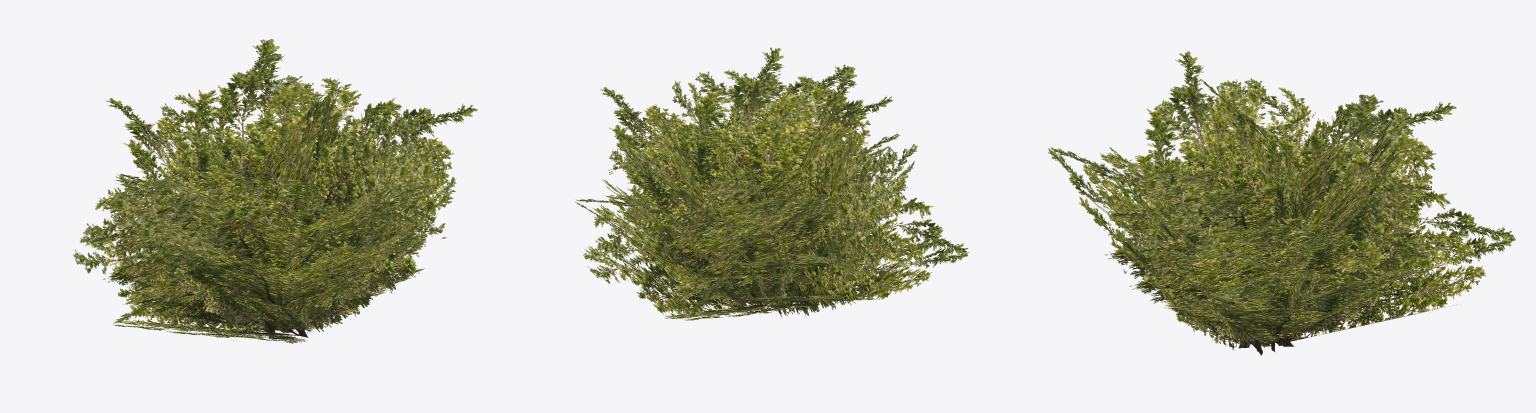
The model's file is africaBush_01.DAE.
3 renders of one model, left to right at view 1: azimuth 30°, elevation 25°; view 2: azimuth 150°, elevation 25°; view 3: azimuth 270°, elevation 25°, orthographic. The views are drawn at different scales.
Parts seen in each view (by area): view 1: africaBushOne256, africaBushOne128; view 2: africaBushOne256, africaBushOne128; view 3: africaBushOne256, africaBushOne128.
Part boxes in pixels (<box>): africaBushOne256: <box>82,39,477,338</box>; africaBushOne128: <box>72,39,457,343</box>; africaBushOne256: <box>576,47,967,318</box>; africaBushOne128: <box>574,66,968,320</box>; africaBushOne256: <box>1050,51,1514,355</box>; africaBushOne128: <box>1048,85,1515,354</box>.
Size of the model in its own units: 5.65 by 5.66 by 4.43.
